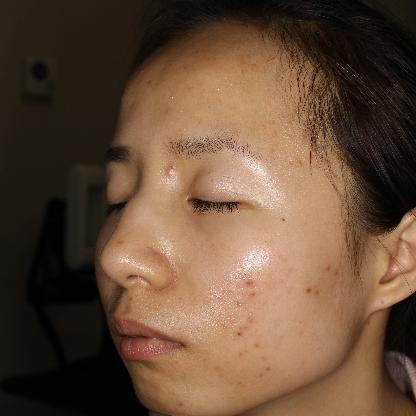Blackheads: (232, 326, 249, 344)
Papules: (160, 159, 186, 184), (239, 273, 260, 292)
